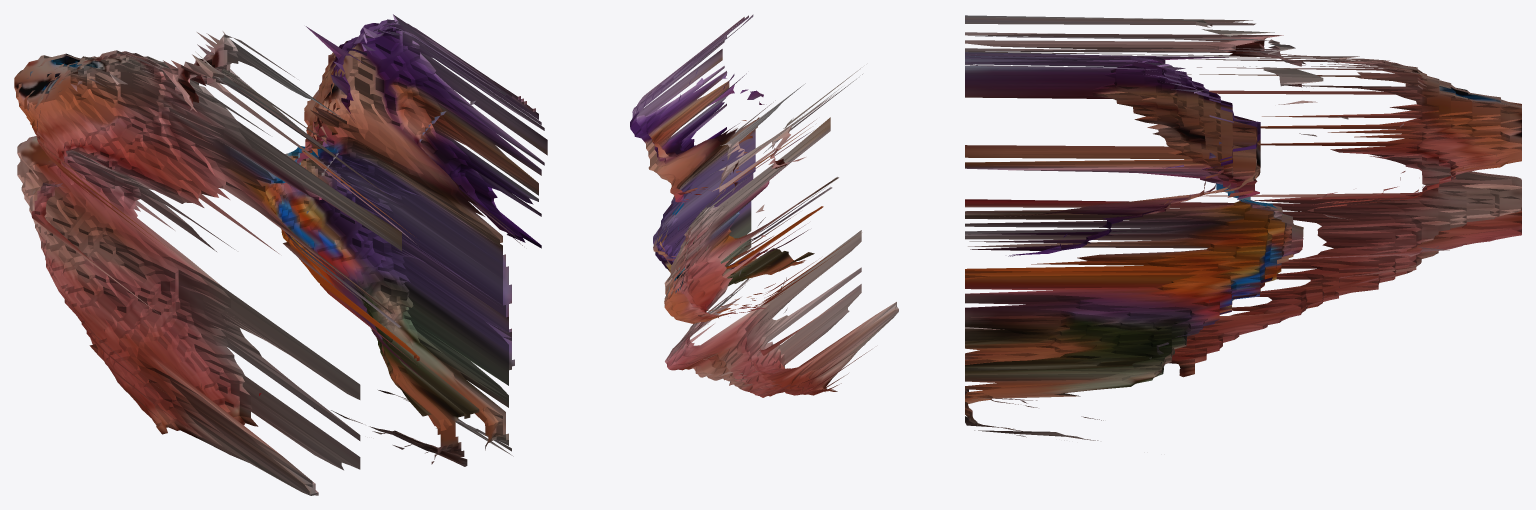
The model's file is frame_00018.glb.
3 views of the same model, side by side, from view 1: azimuth 30°, elevation 25°; view 2: azimuth 150°, elevation 25°; view 3: azimuth 270°, elevation 25° (orthographic). The views are drawn at different scales.
Visible parts, largest first — view 1: geometry_0; view 2: geometry_0; view 3: geometry_0.
Boxes of the visible parts, left/top/right/bottom form: geometry_0: left=14, top=14, right=547, bottom=495; geometry_0: left=630, top=14, right=898, bottom=397; geometry_0: left=965, top=15, right=1521, bottom=440.
Size of the model in its own units: 0.0961 by 0.1385 by 0.16.
1 material, 1 textured.
